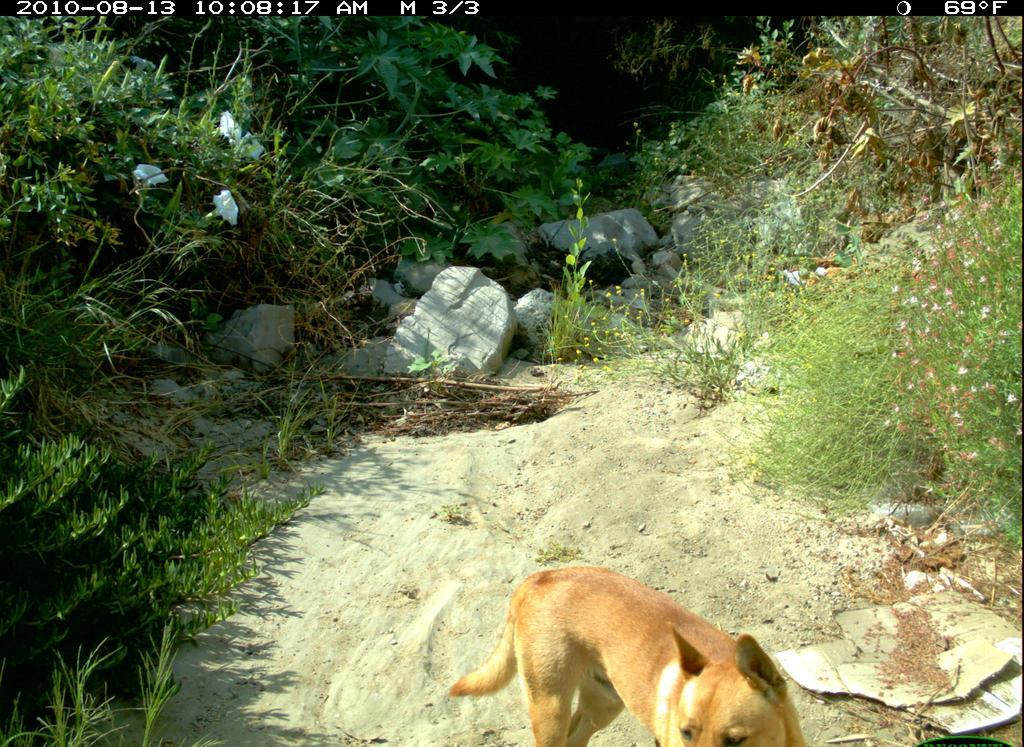dog: (446, 555, 821, 747)
